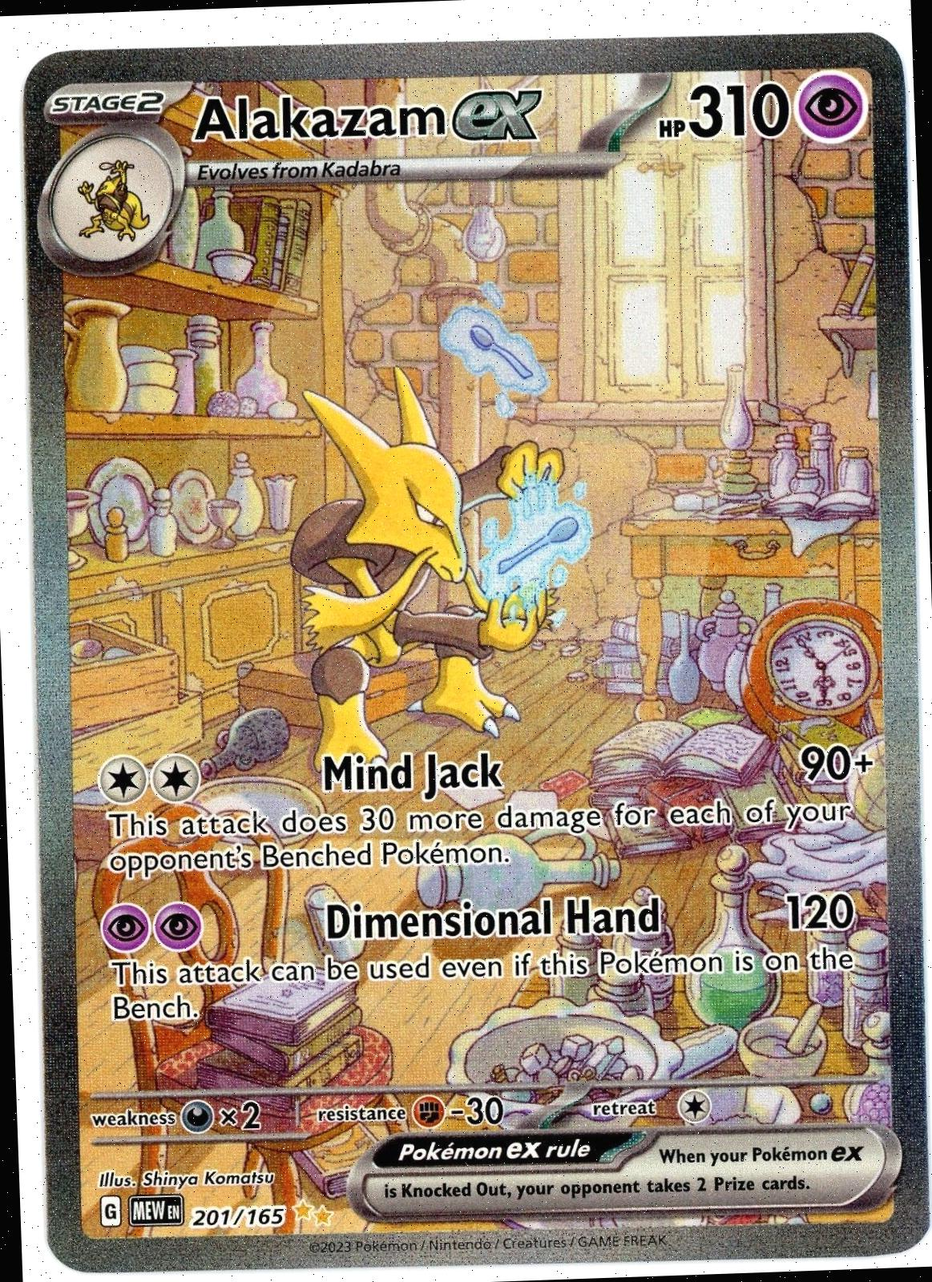card-2UtV: (21, 31, 929, 1273)
